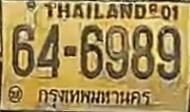4: (36, 23, 60, 77)
6: (80, 24, 102, 78), (12, 23, 34, 76)
8: (131, 24, 153, 78)
9: (156, 25, 180, 79), (105, 24, 128, 78)
BKK: (37, 87, 152, 109)
